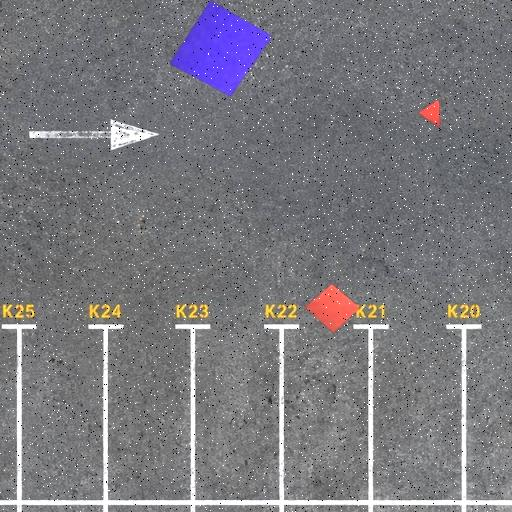BLUE_SQUARE: (169, 0, 273, 97)
RED_SQUARE: (304, 284, 361, 334)
